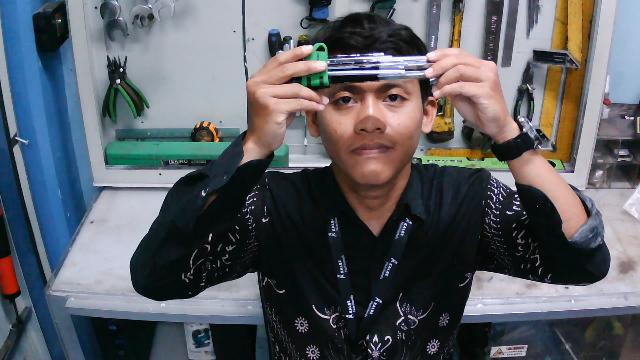kunci_l: (272, 35, 444, 88)
